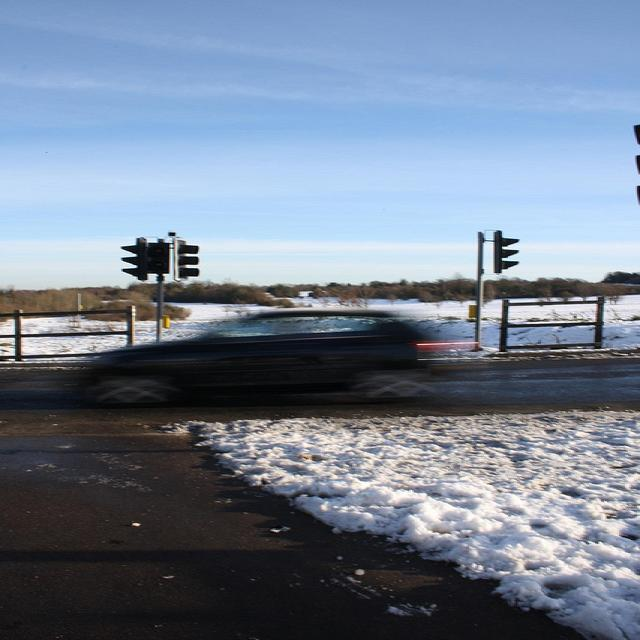Vehicle: (69, 304, 442, 411)
